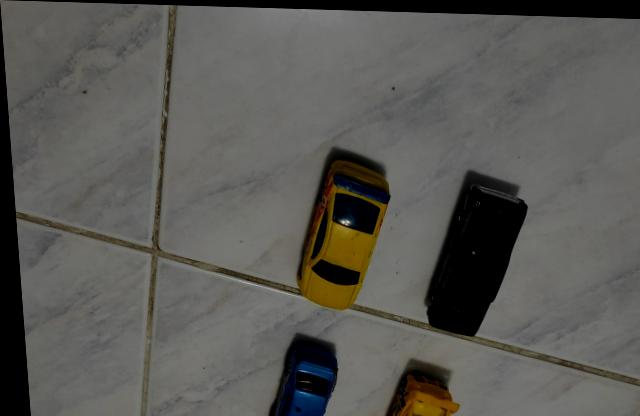01_FORD: (421, 178, 526, 334)
02_OZSOME: (293, 156, 389, 307)
04_MERZEDES: (264, 342, 333, 416)
07_RHLTURBO: (377, 370, 454, 416)
